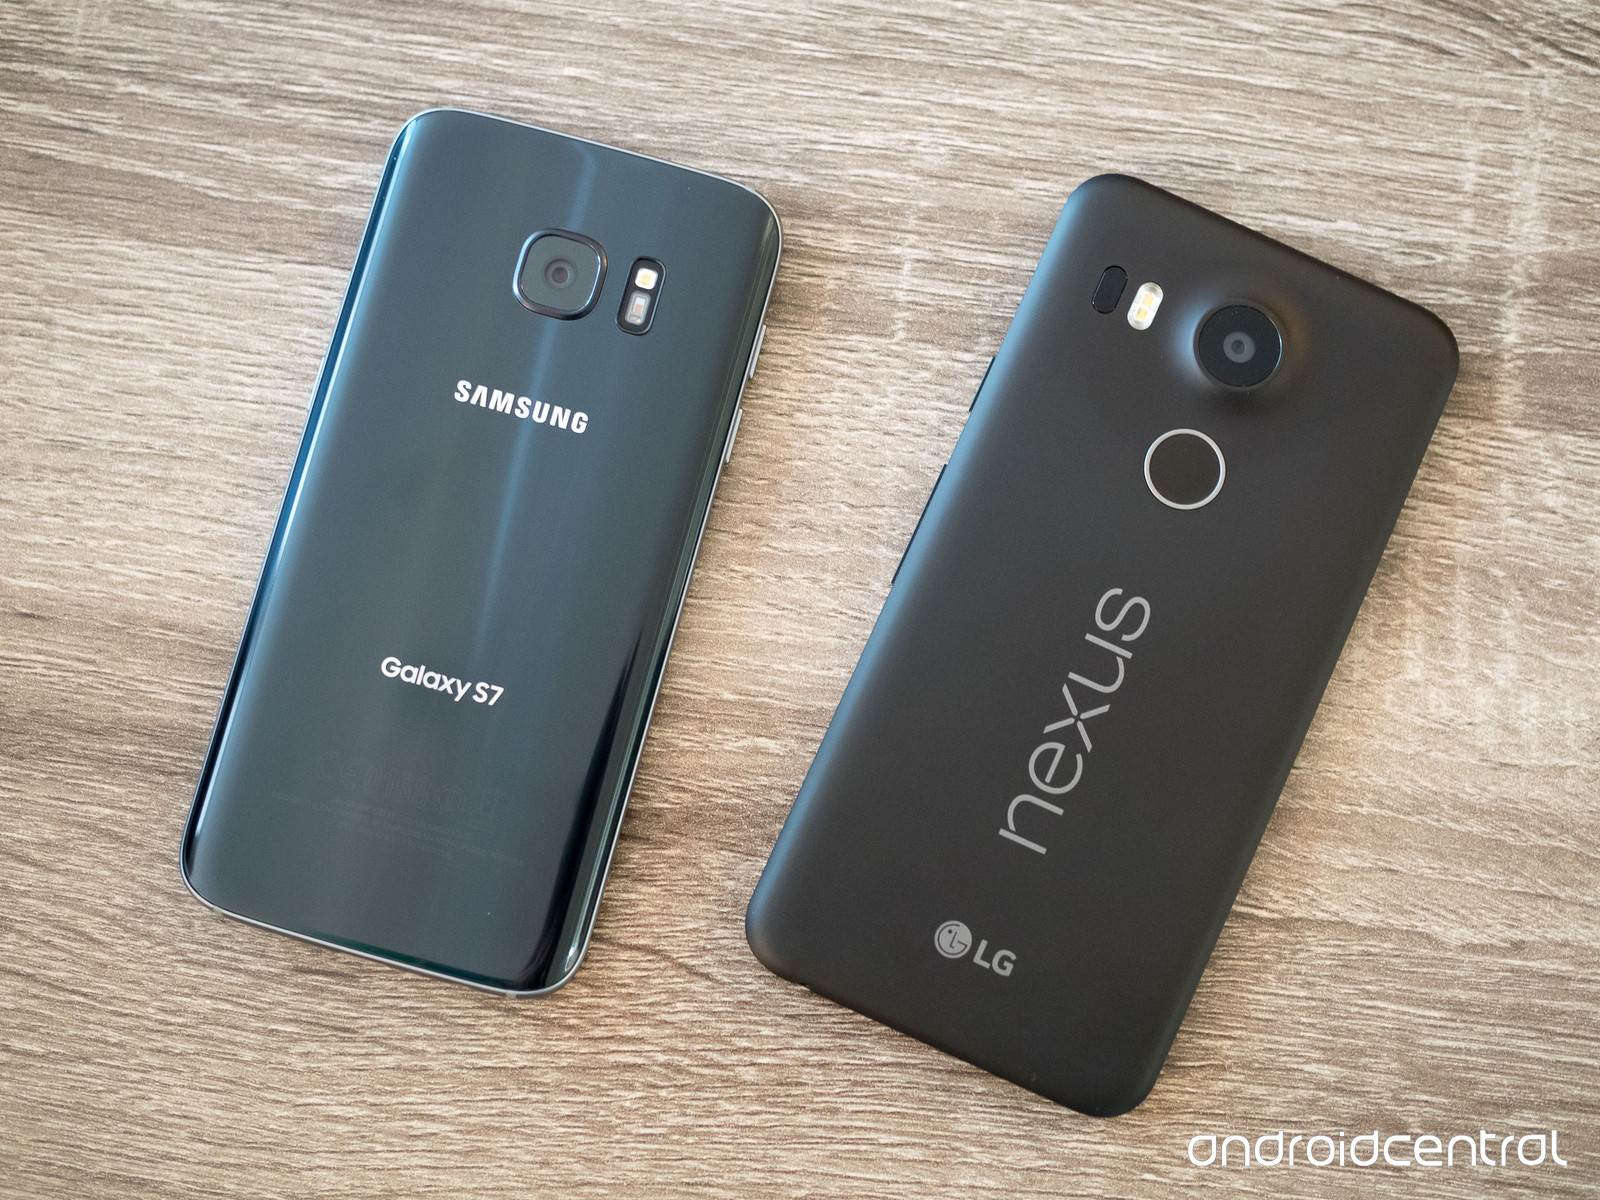smartphone: (745, 171, 1463, 1121), (180, 107, 784, 1000)
